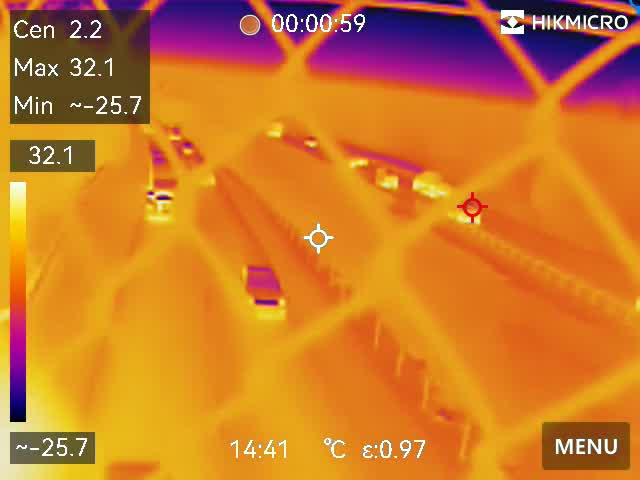vehicle: (239, 257, 288, 327), (409, 167, 454, 197), (445, 199, 486, 226), (374, 169, 403, 190)
